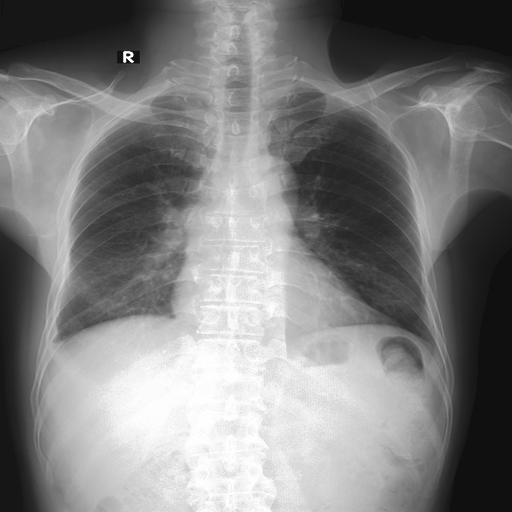Calcification: (38, 314, 70, 365)
Consolidation: (243, 154, 297, 205)
Nodule/Mass: (170, 288, 403, 338)
Pleural effusion: (38, 314, 70, 365)
